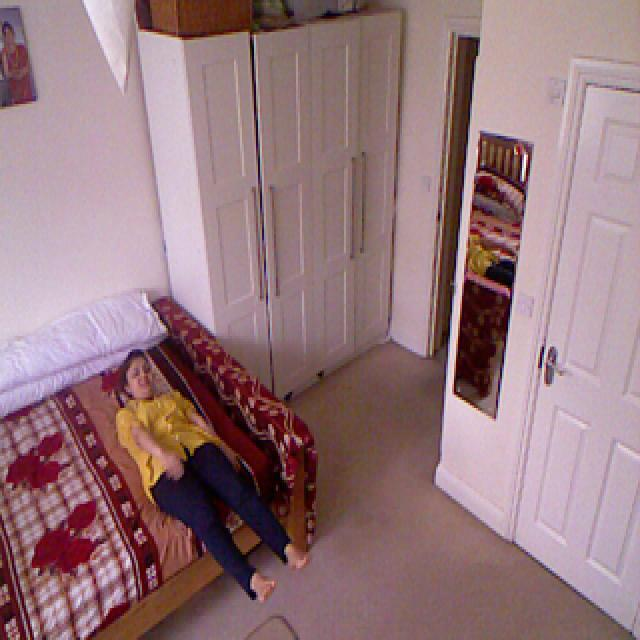lying: (98, 368, 315, 612)
